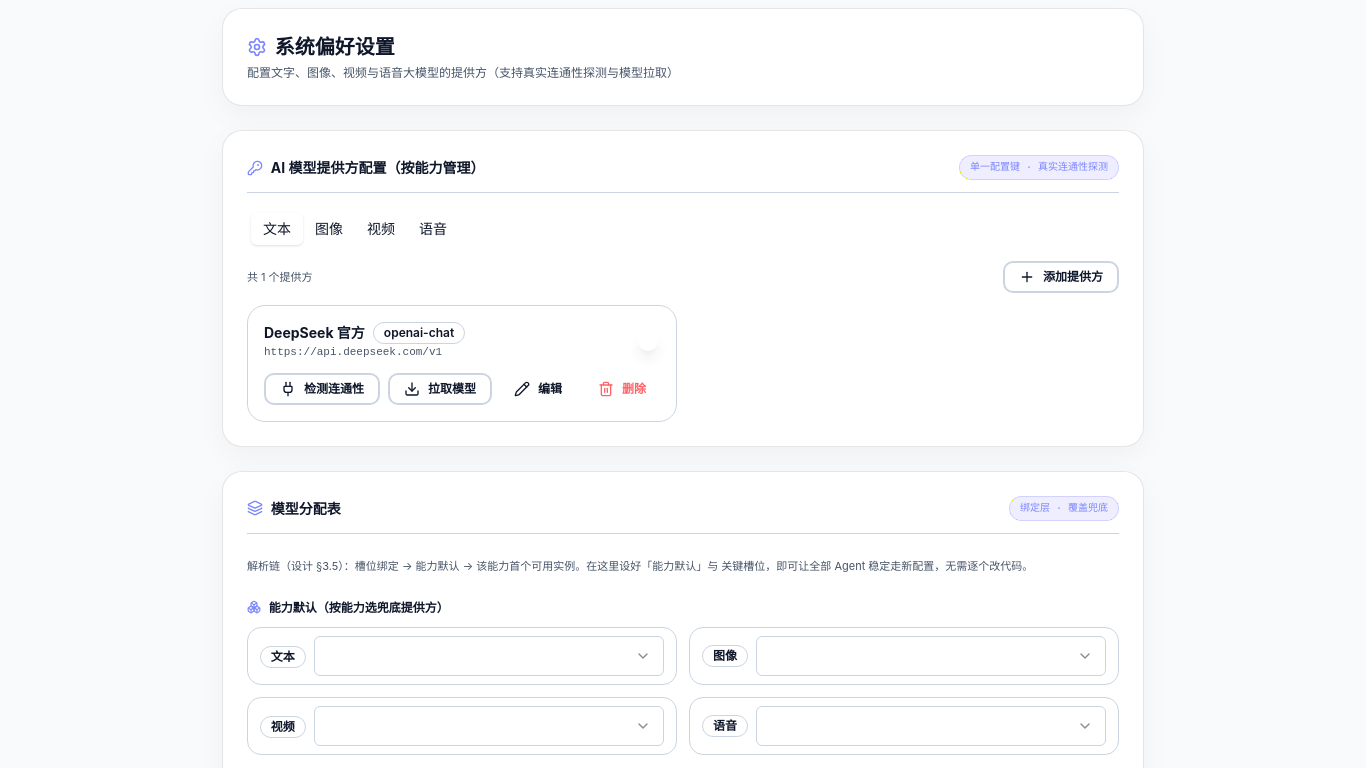
Test: ModelProviderSettings 凭据复制 / 继承入口 (P6) › 已有实例时，添加提供方 Dialog 出现复制 / 继承凭据入口
Check: the text "DeepSeek 官方" is shown, box [264,323,365,343]
// 打开「添加提供方」Dialog（默认「文本」Tab）
Click the button "添加提供方" at (1061, 277), box [1003,261,1119,293]
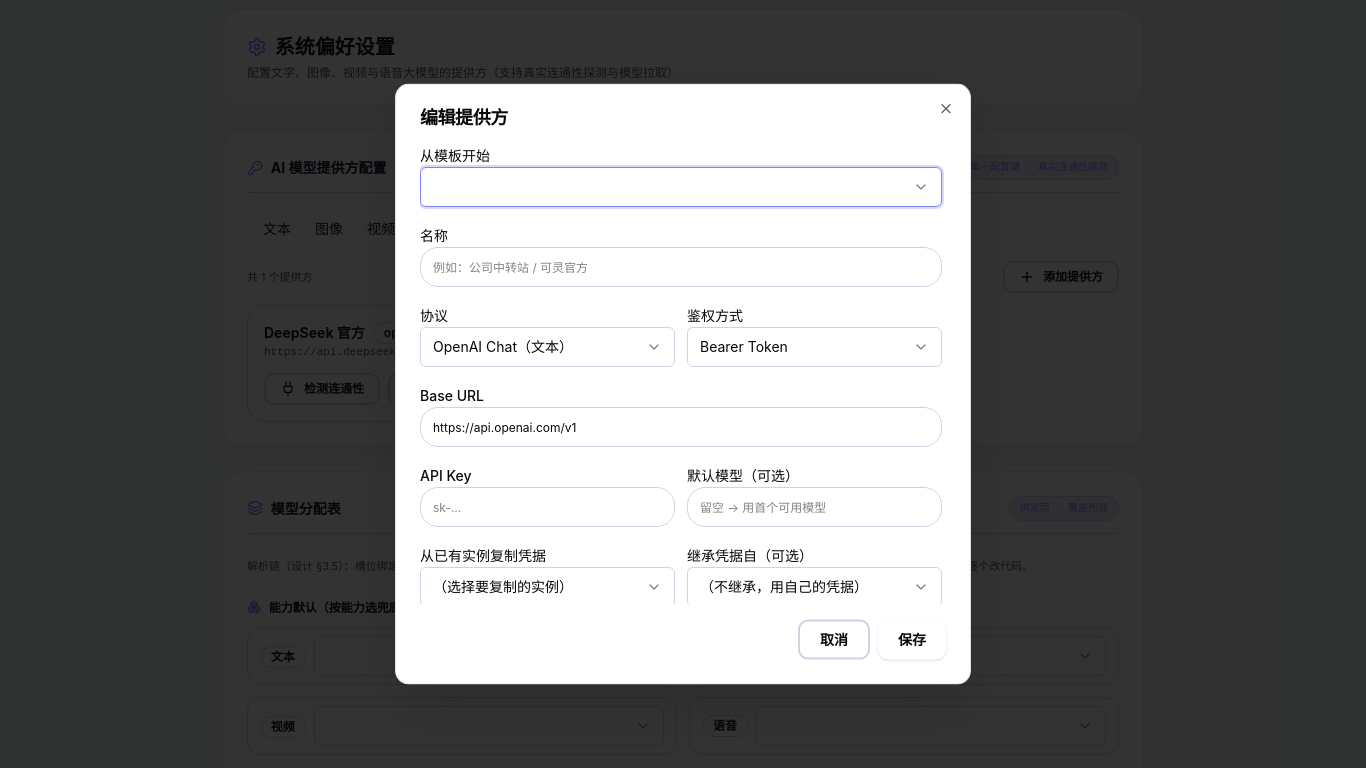
Check: the text "从已有实例复制凭据" is shown, box [420,547,546,564]
Check: the text "继承凭据自（可选）" is shown, box [687,547,813,564]
